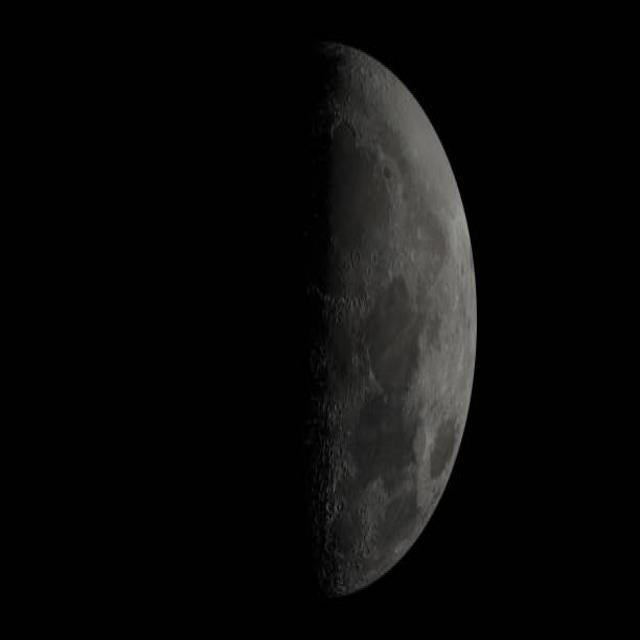moon: (171, 46, 476, 603)
